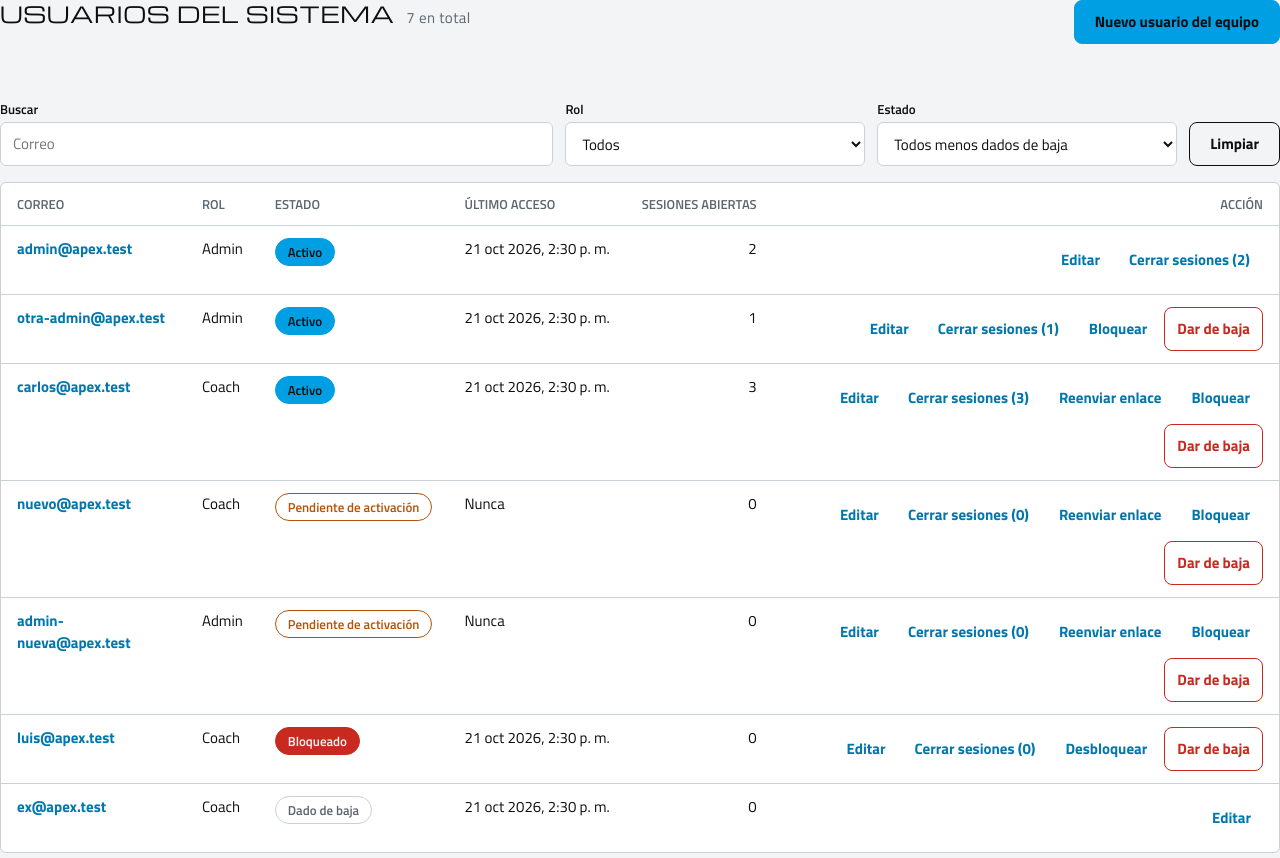
UsersPage · bloquear (US-051) › pide confirmación con la consecuencia y hace POST /users/{id}/lock
The width and height of the screenshot is (1280, 858).
Click the button "Bloquear" in the row of "carlos@apex.test". click: (1221, 398)
box: [1178, 376, 1263, 420]
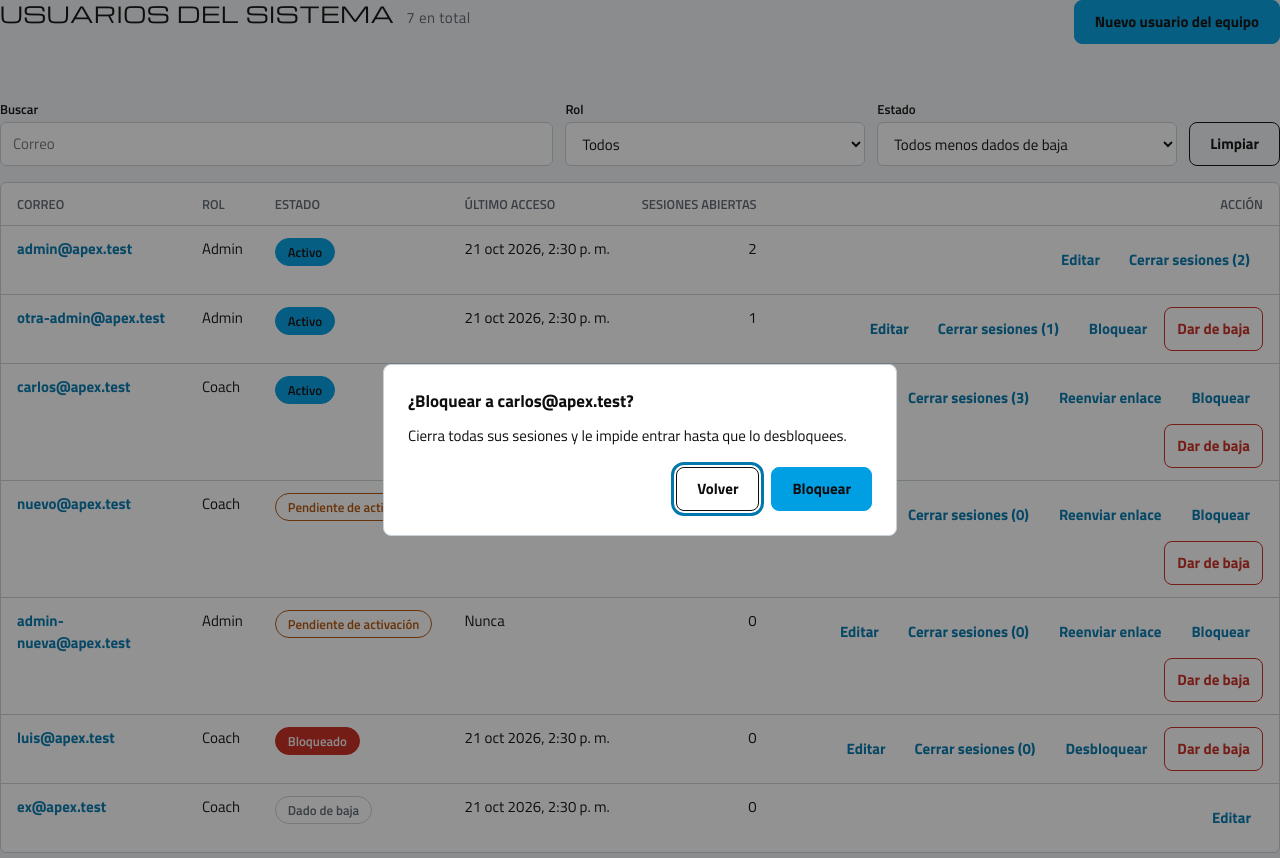
Click the button "Bloquear". click: (822, 489)
box: [772, 467, 872, 511]
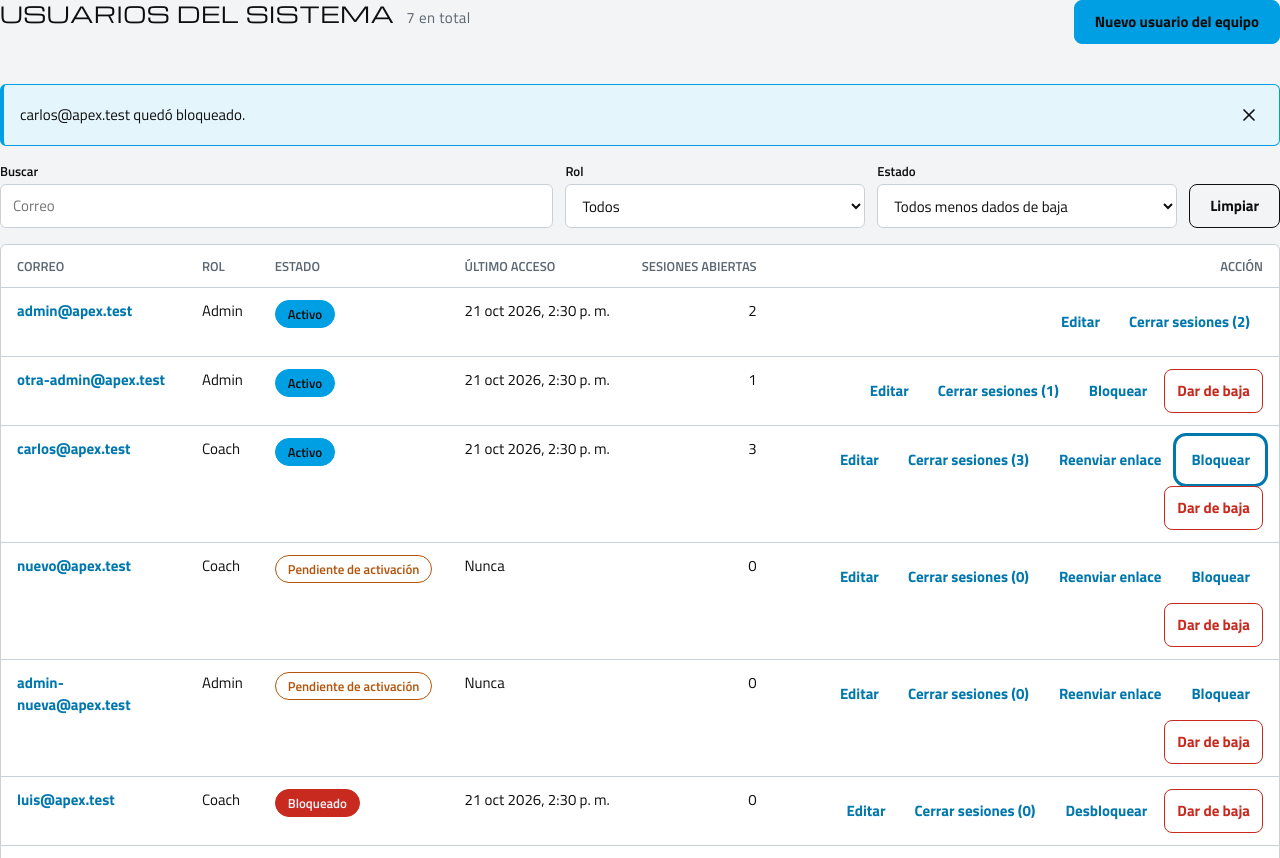
Check: the dialog is gone
